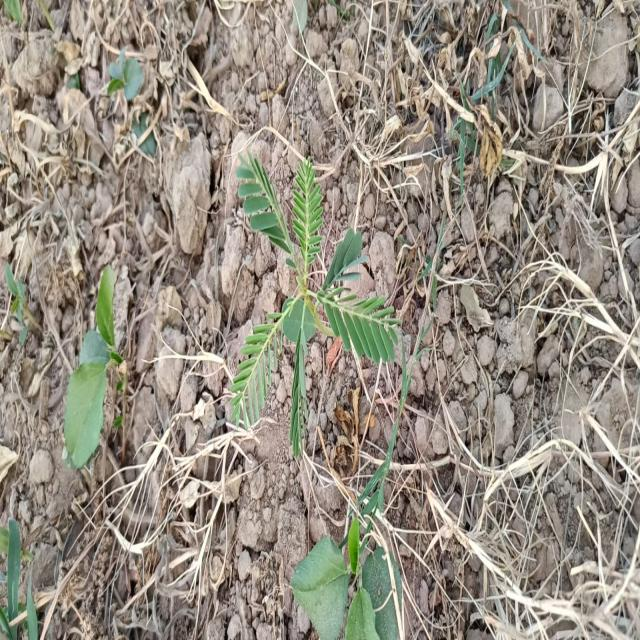plant: (238, 156, 398, 456), (232, 316, 278, 424)
